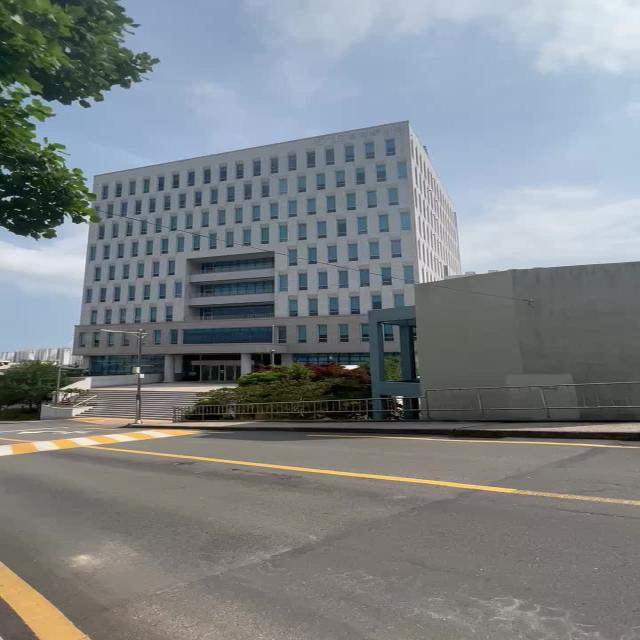building: (77, 121, 455, 375)
